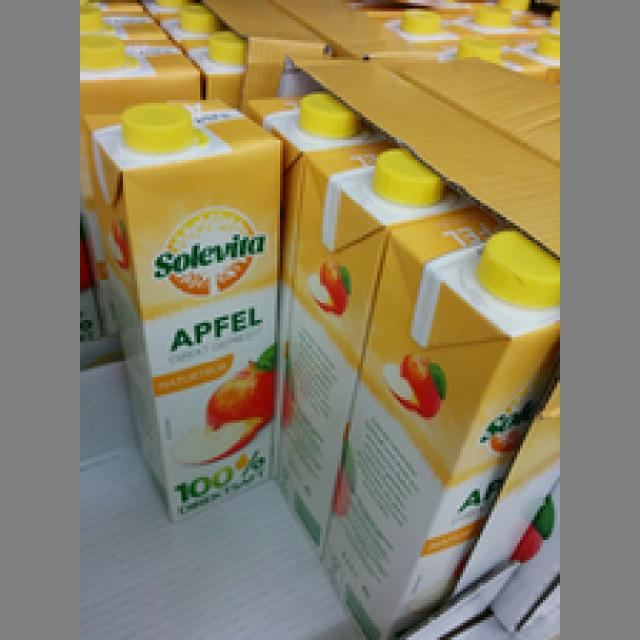groceries: (314, 200, 560, 634), (80, 94, 283, 523)
